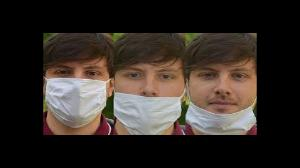mask_weared_incorrect: (117, 65, 183, 132), (193, 65, 253, 133)
with_mask: (50, 61, 108, 120)
